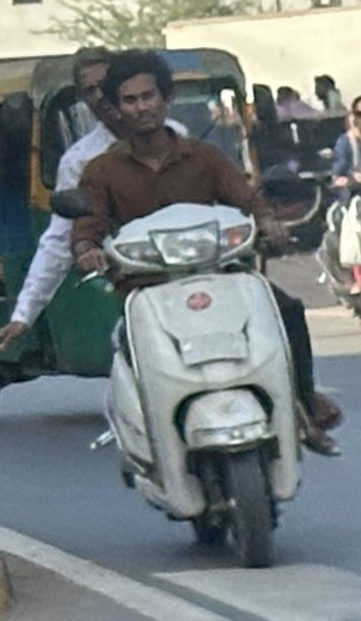BikeWithRider: (7, 38, 353, 575)
NoHelmet: (92, 45, 182, 145), (63, 39, 129, 131)
